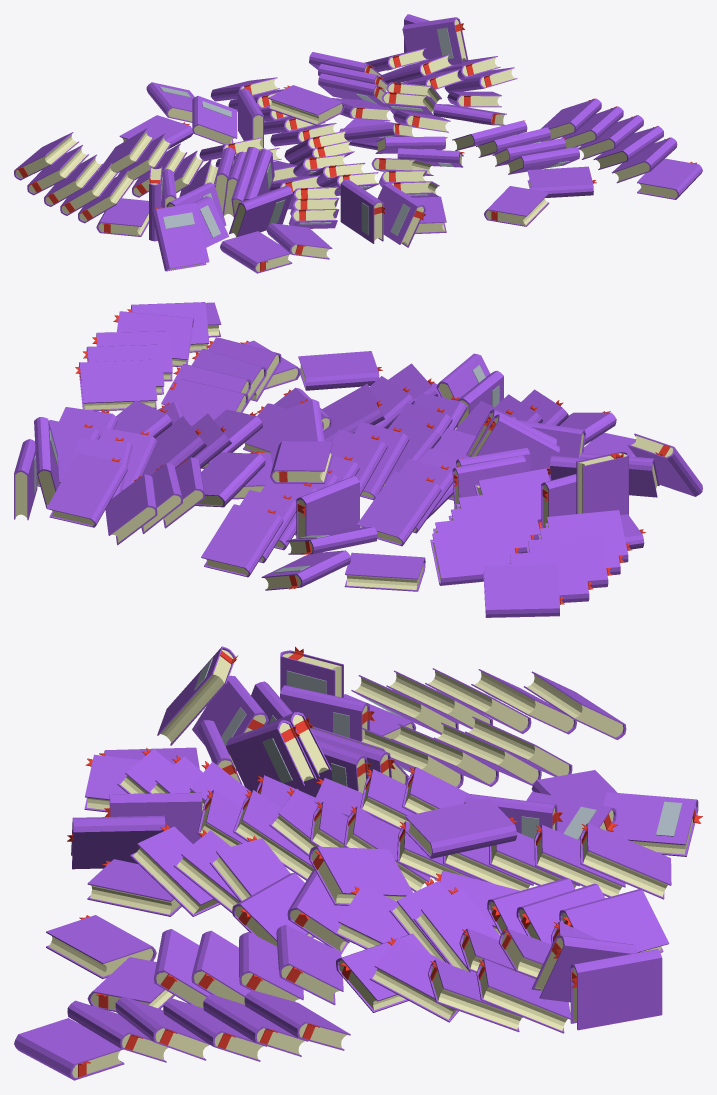
File: bookPiles_02.fbx
3 renders of one model, top to bottom at view 1: azimuth 30°, elevation 25°; view 2: azimuth 150°, elevation 25°; view 3: azimuth 270°, elevation 25°, orthographic. The views are drawn at different scales.
Parts seen in each view (by area): view 1: book_piles_02; view 2: book_piles_02; view 3: book_piles_02.
Boxes of the visible parts, x1,y1,x2,y2 form: book_piles_02: (14,14,702,273); book_piles_02: (14,302,702,617); book_piles_02: (14,646,702,1080).
Bounding box in the file's own units: 295 × 35.45 × 225.
